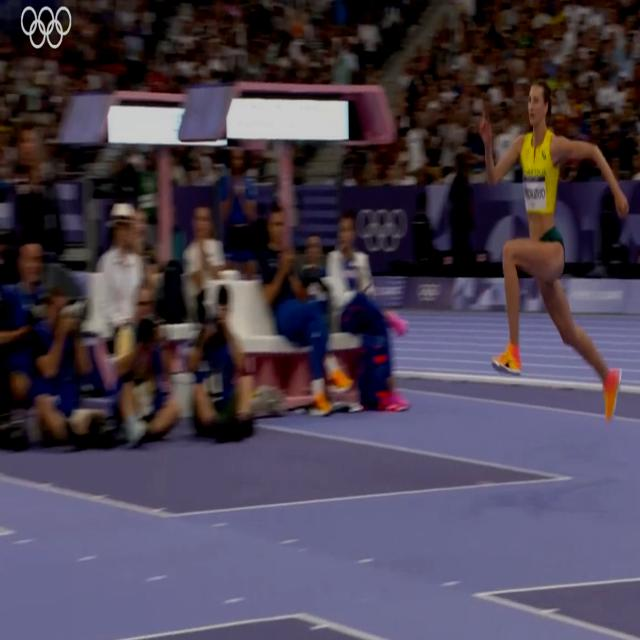run: (478, 83, 636, 425)
